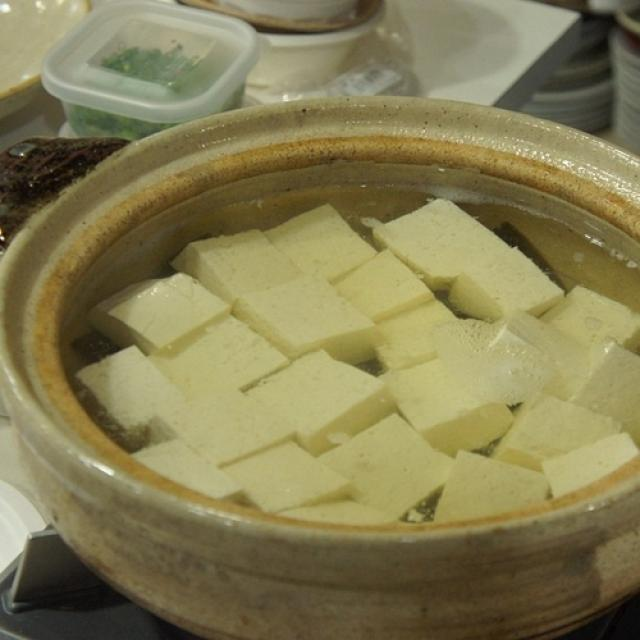豆腐料理: (5, 90, 634, 626)
